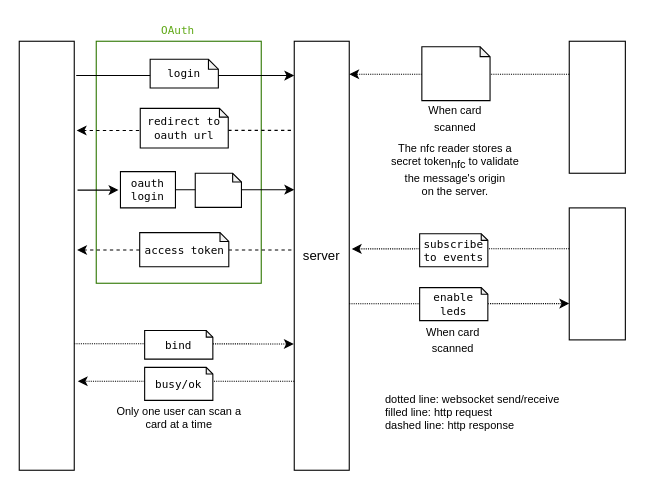
Image size: 645x490. Some labels were removed from this diagram. Here are the shapes that lost their labels. From the top down, the centre of each, then its label:
At (455,73): "token nfc uuid".
At (596,106): "nfc".
At (217,189): "token".
At (46,255): "user".
At (596,273): "leds".
